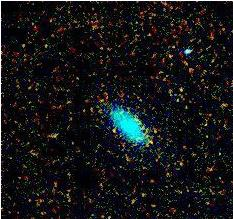star: (95, 116, 125, 146)
